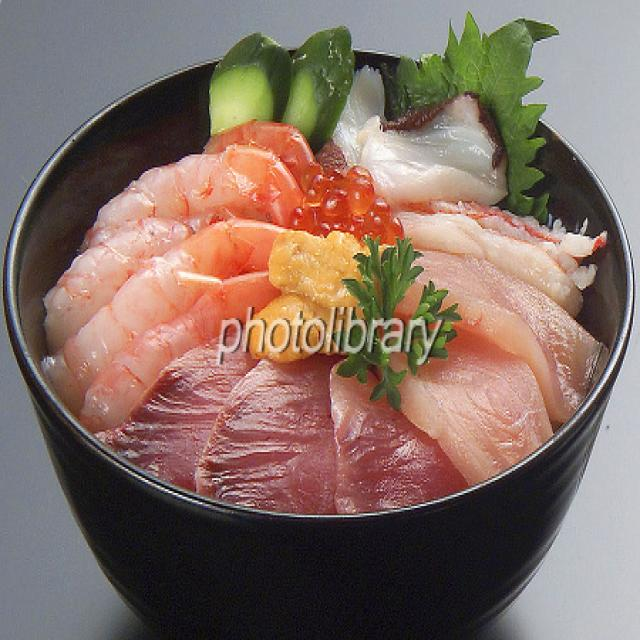刺身生食: (0, 13, 633, 640)
